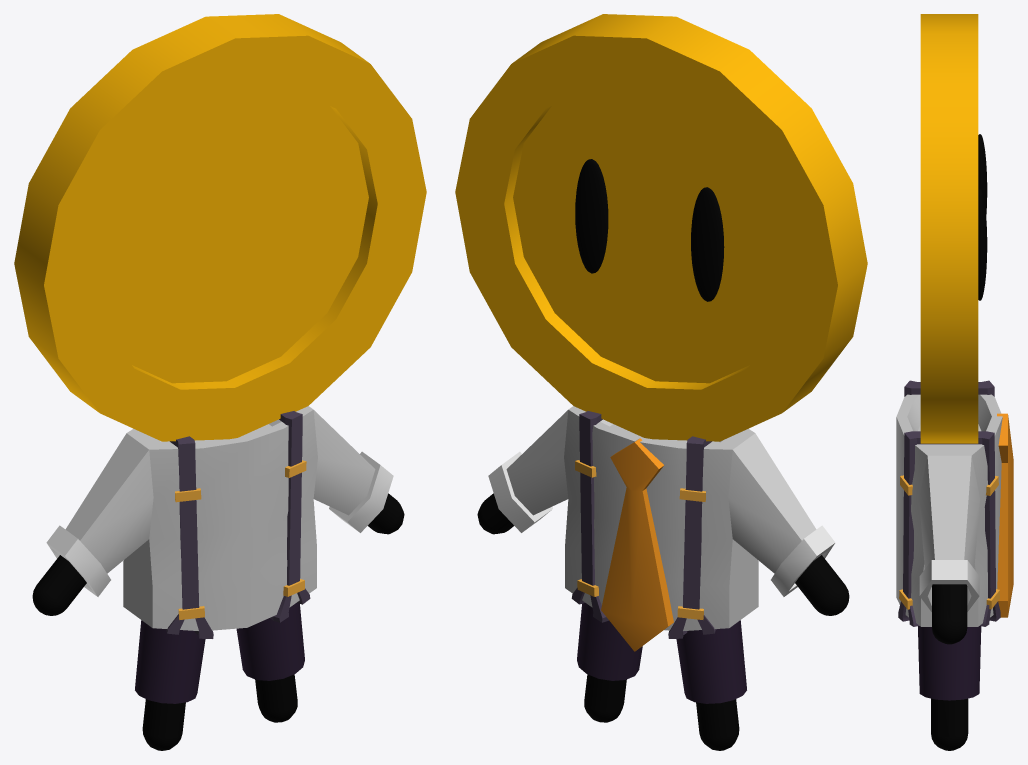
The model's file is coin-man.glb.
3 renders of one model, left to right at view 1: azimuth 30°, elevation 25°; view 2: azimuth 150°, elevation 25°; view 3: azimuth 270°, elevation 25°, orthographic. The views are drawn at different scales.
Parts seen in each view (by area): view 1: node-0; view 2: node-0; view 3: node-0.
Part boxes in pixels (bbox=[...]): node-0: bbox=[14, 14, 426, 750]; node-0: bbox=[455, 14, 867, 750]; node-0: bbox=[896, 14, 1013, 750].
Bounding box in the file's own units: 2.8 × 4.95 × 0.7637.
